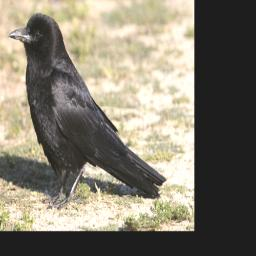Crow: (7, 11, 167, 210)
